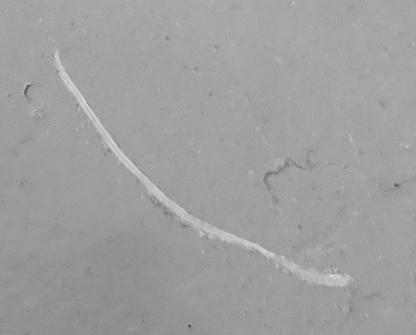scratch: (1, 1, 416, 335)
